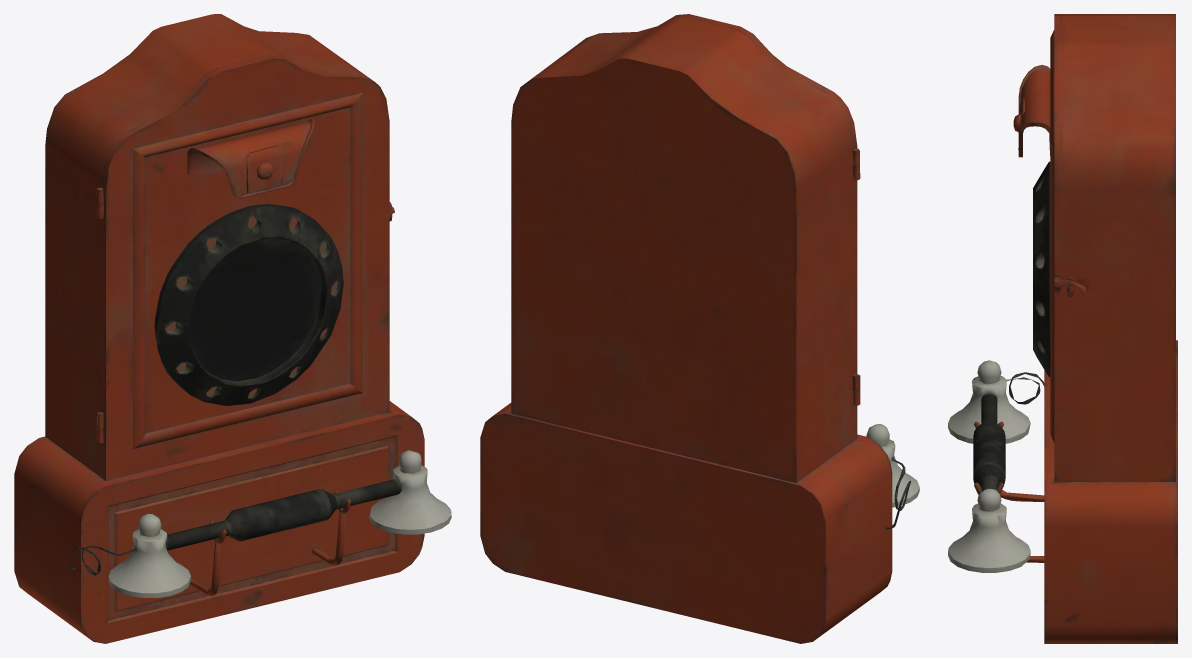
Rendered from vintage_telephone_wall_clock.glb.
The picture shows the model from 3 angles, left to right: view 1: azimuth 30°, elevation 25°; view 2: azimuth 150°, elevation 25°; view 3: azimuth 270°, elevation 25°; orthographic projection.
Parts seen in each view (by area): view 1: vintage_telephone_wall_clock; view 2: vintage_telephone_wall_clock; view 3: vintage_telephone_wall_clock.
Part boxes in pixels (x1,y1,x2,y2): vintage_telephone_wall_clock: (14,14,451,643); vintage_telephone_wall_clock: (480,14,919,643); vintage_telephone_wall_clock: (948,14,1177,643).
Bounding box in the file's own units: 0.3423 × 0.5006 × 0.1926.
Materials: 2 (2 with a texture image).
